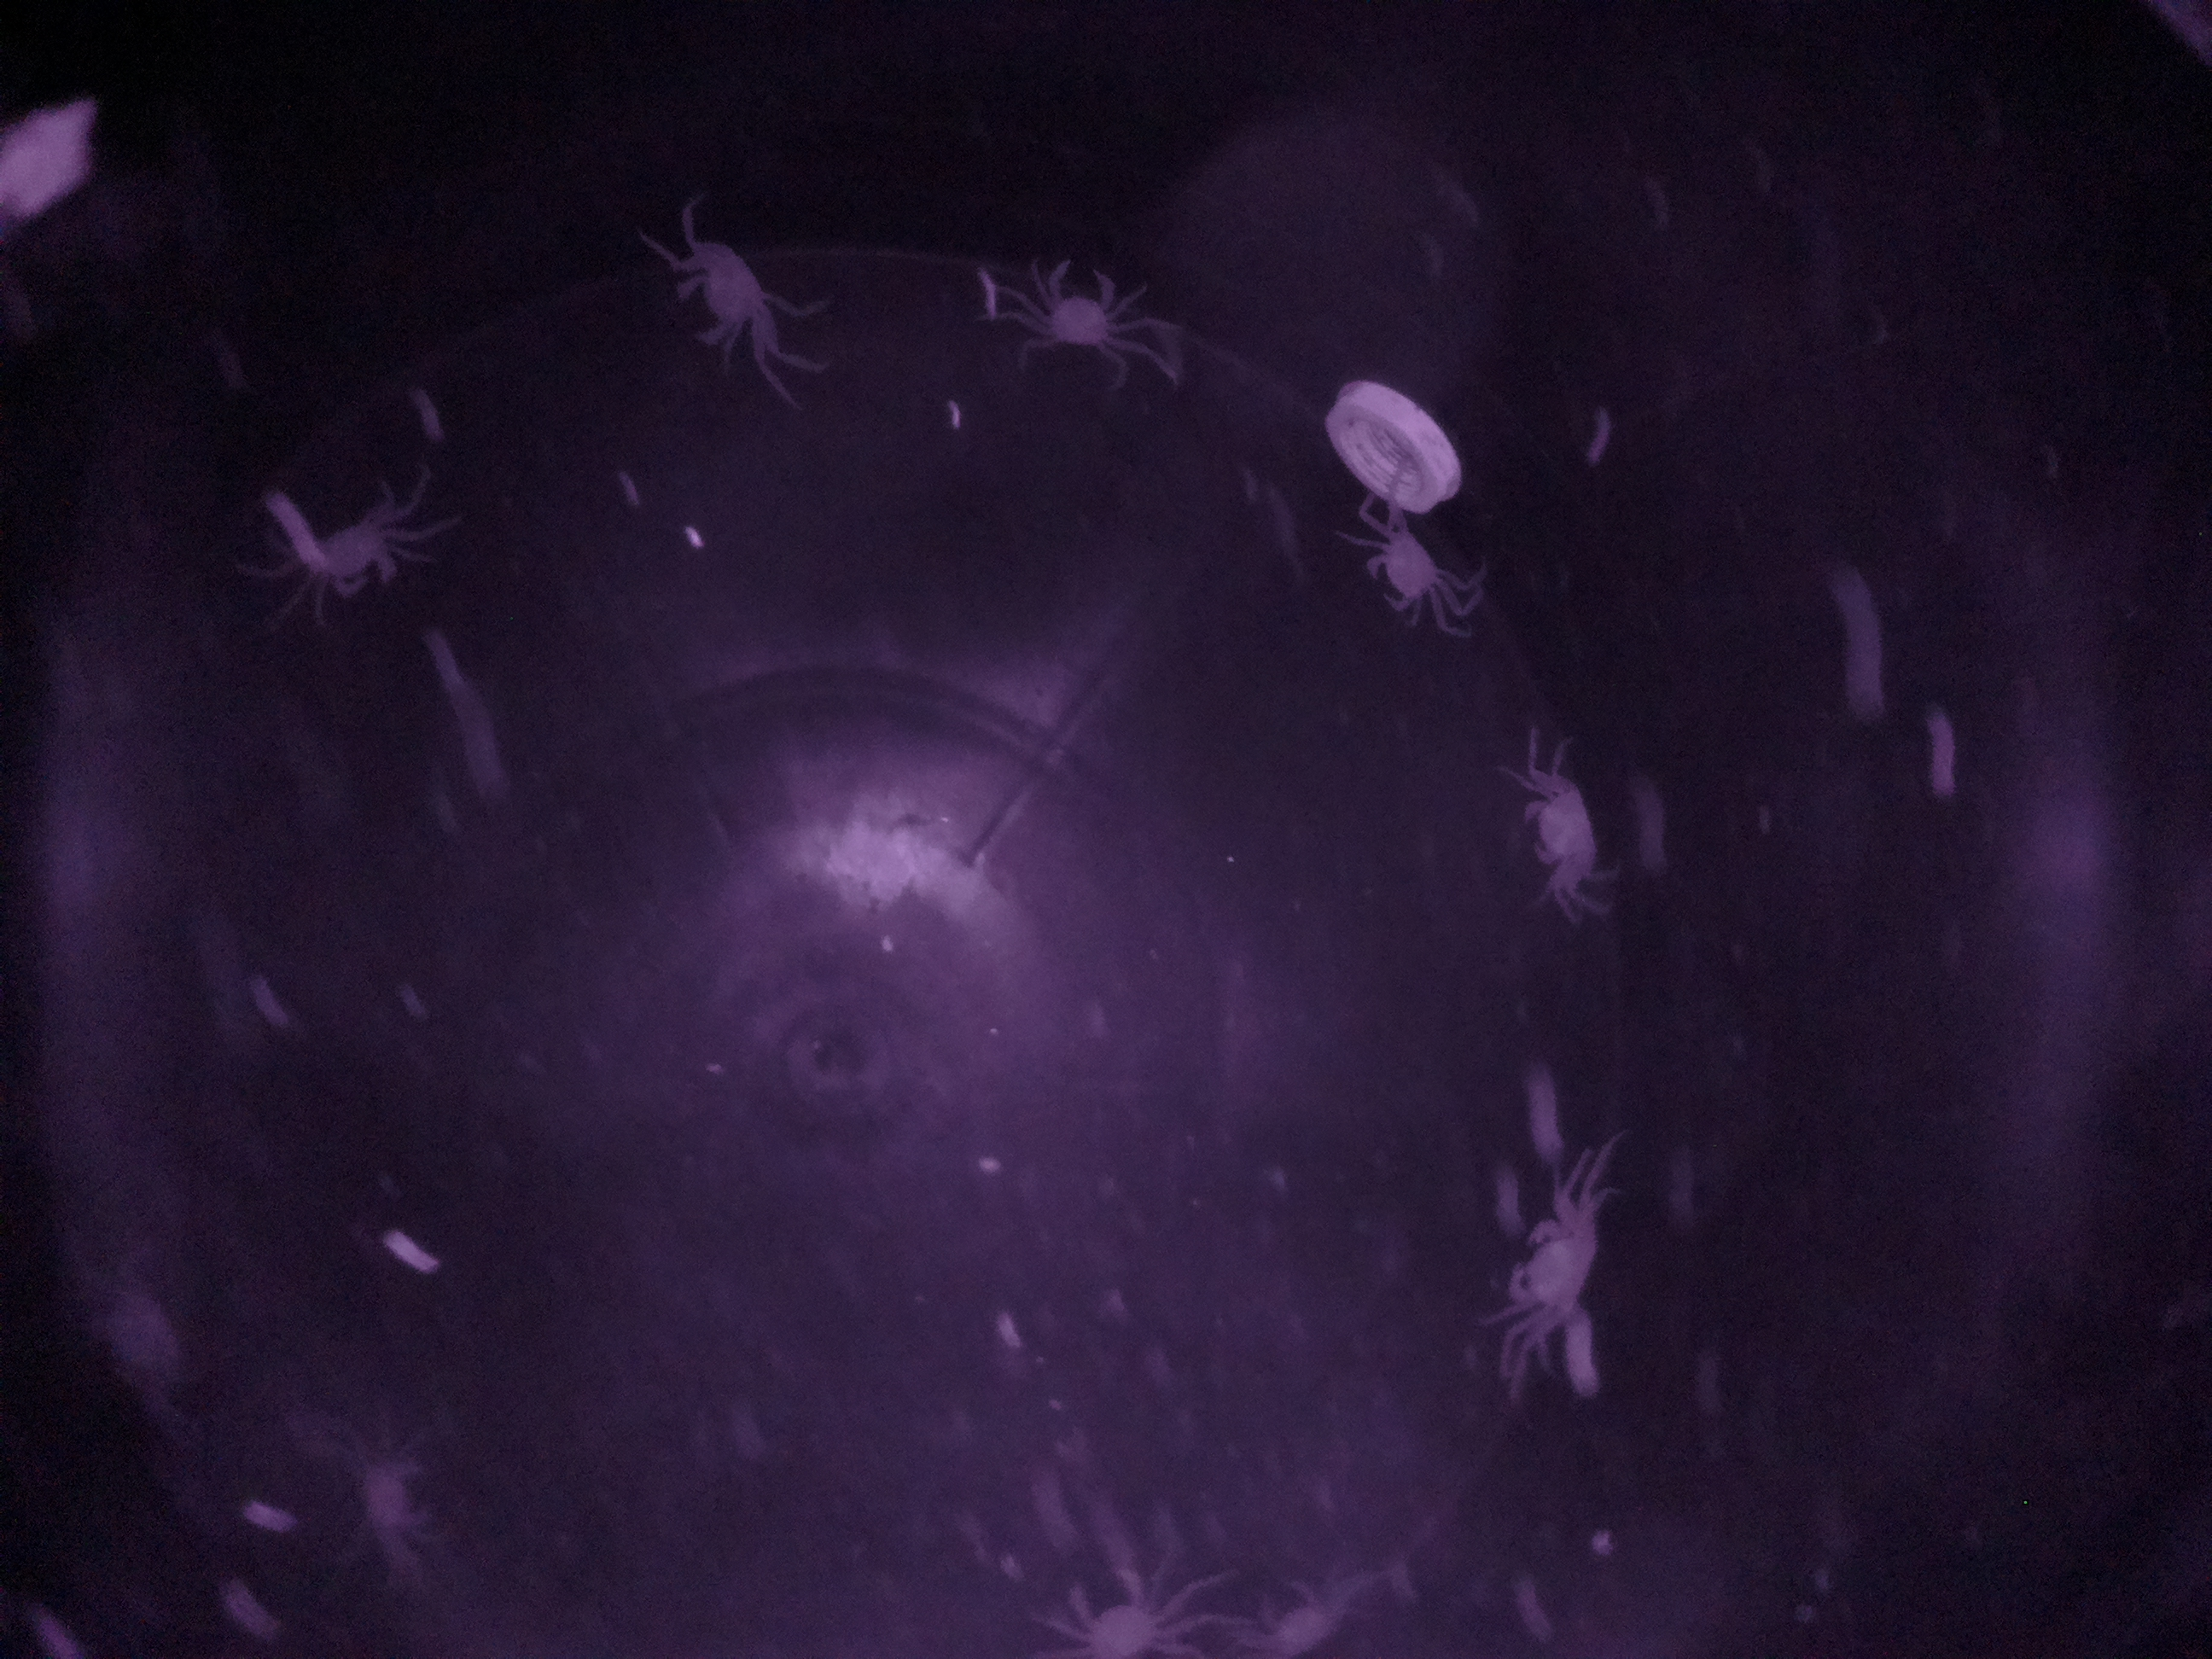Crab: (1480, 1190, 1602, 1349), (658, 235, 791, 361), (1022, 225, 1129, 369), (1505, 767, 1613, 890), (1357, 511, 1456, 629)
